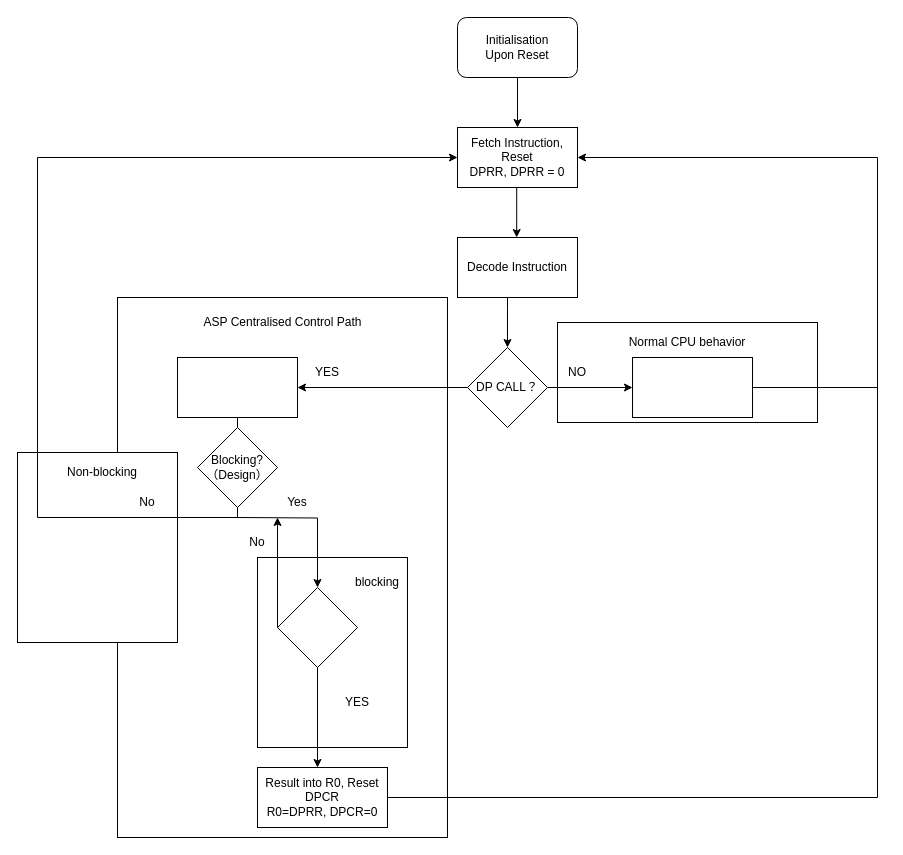
Image size: 903x855. Some labels were removed from this diagram. The box of each missing label's shape, as (x1, y1, x2, y2) in pixels:
Execute DCall: (176, 356, 298, 418)
Execute Instruction: (632, 356, 752, 418)
New Result?: (276, 586, 358, 668)
